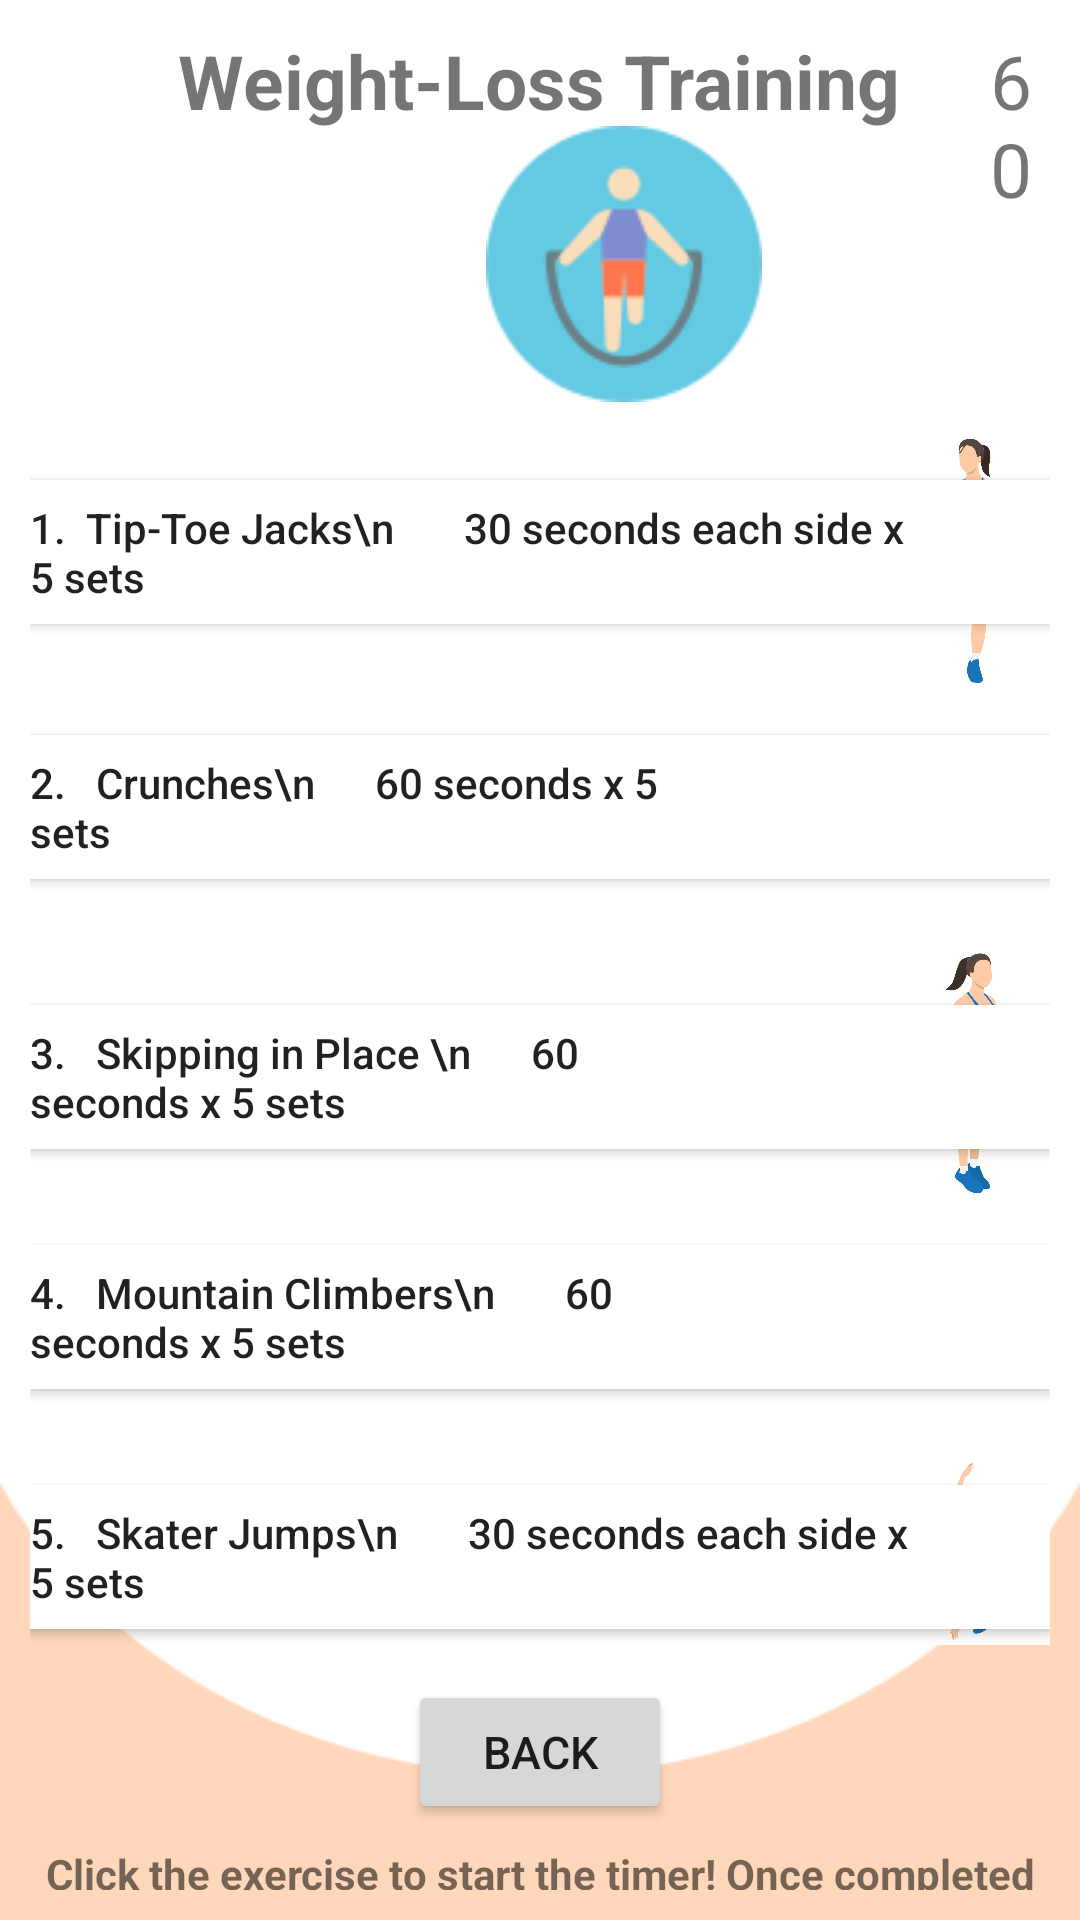

Point at icon controls on the screen. Image size 1080x1920, points as [x,y].
loseweightheader: [624,264]
